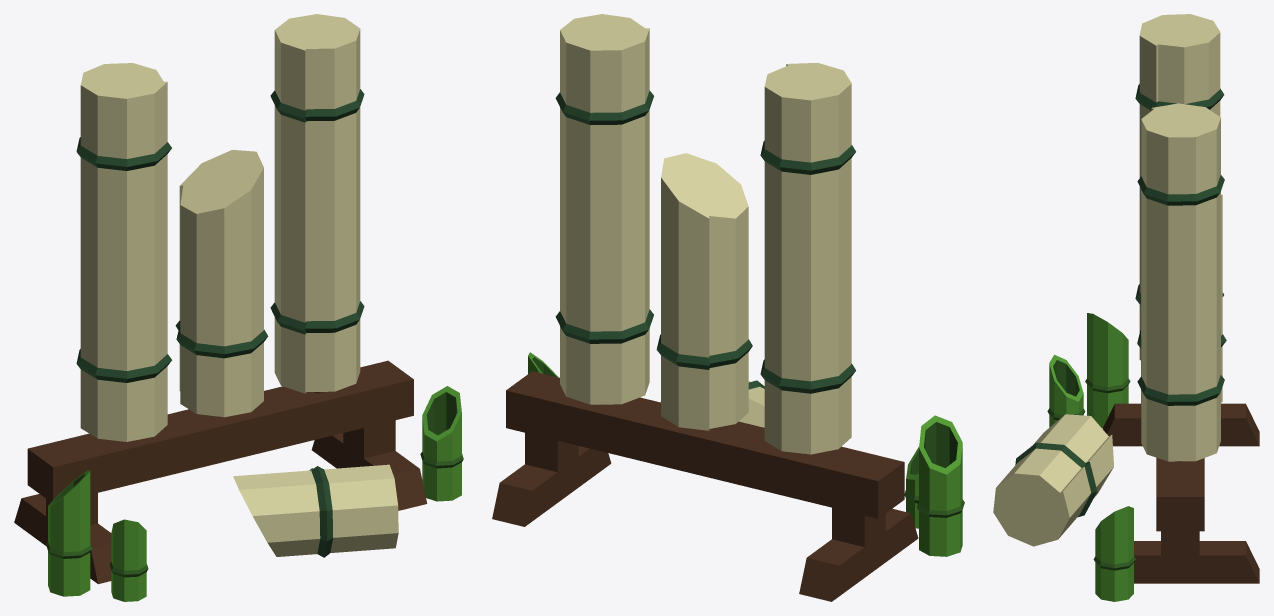
File: tatami-target.glb
3 views of the same model, side by side, from view 1: azimuth 30°, elevation 25°; view 2: azimuth 150°, elevation 25°; view 3: azimuth 270°, elevation 25° (orthographic). The views are drawn at different scales.
Visible parts, largest first — view 1: Mats, Stand, Bamboo, Cords, Nodes; view 2: Mats, Stand, Cords, Bamboo, Nodes; view 3: Mats, Stand, Bamboo, Cords, Nodes.
Part boxes in pixels (left/top/right/bottom): Mats: left=80, top=14, right=398, bottom=556; Stand: left=14, top=360, right=427, bottom=584; Bamboo: left=48, top=386, right=461, bottom=601; Cords: left=76, top=89, right=364, bottom=557; Nodes: left=46, top=392, right=463, bottom=577; Mats: left=560, top=14, right=851, bottom=454; Stand: left=492, top=371, right=918, bottom=601; Cords: left=555, top=90, right=855, bottom=393; Bamboo: left=528, top=352, right=962, bottom=556; Nodes: left=532, top=357, right=964, bottom=517; Mats: left=993, top=14, right=1222, bottom=546; Stand: left=1102, top=403, right=1259, bottom=583; Bamboo: left=1049, top=313, right=1133, bottom=601; Cords: left=1015, top=84, right=1226, bottom=516; Nodes: left=1047, top=360, right=1135, bottom=570.
Size of the model in its own units: 6.59 by 6.9 by 3.86.
